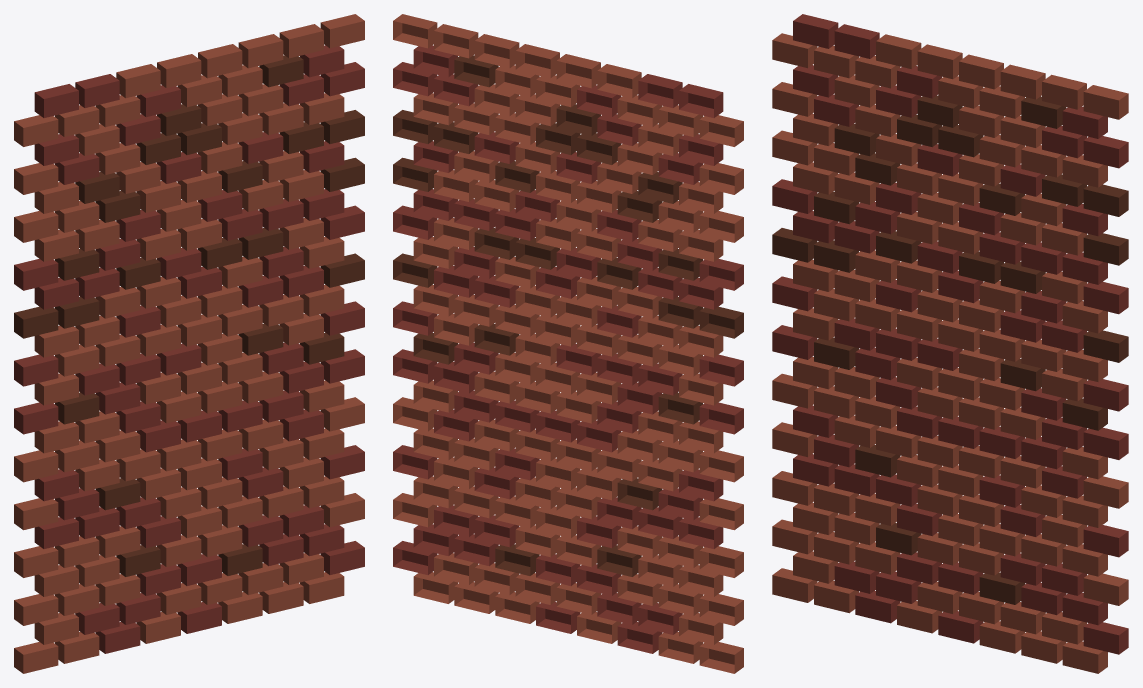
File: WallFacadex2.fbx
3 views of the same model, side by side, from view 1: azimuth 30°, elevation 25°; view 2: azimuth 150°, elevation 25°; view 3: azimuth 330°, elevation 25° (orthographic).
Visible parts, largest first — view 1: Cube.003; view 2: Cube.003; view 3: Cube.003.
Part boxes in pixels (x1,y1,x2,y2): Cube.003: (14, 14, 364, 673); Cube.003: (393, 14, 743, 673); Cube.003: (772, 14, 1128, 673).
Bounding box in the file's own units: 209 × 333 × 9.96.
